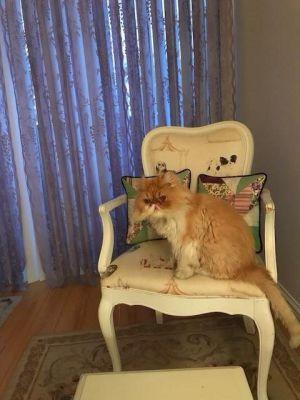persian: (130, 170, 188, 229)
